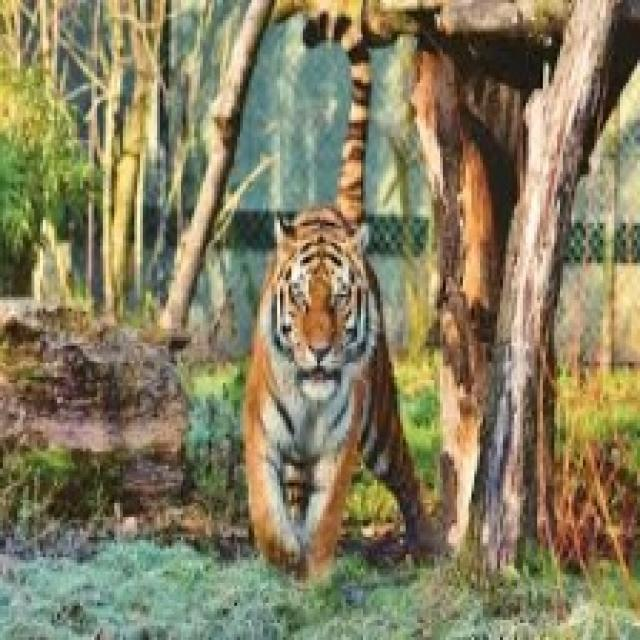bear: (232, 33, 486, 590)
